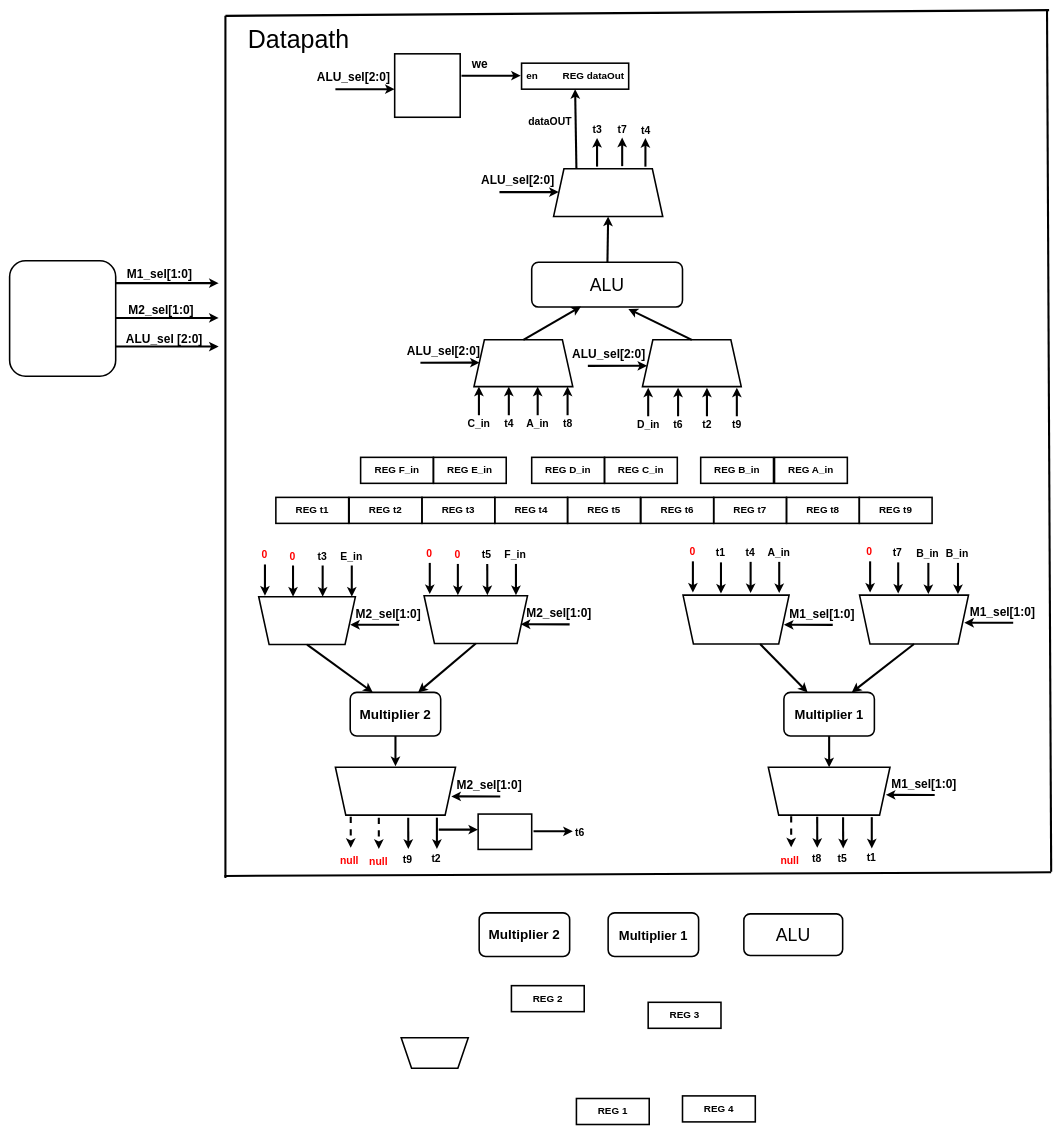
The diagram is 1062 pixels wide and 1134 high, and some of its shapes have lost their labels. Each missing label, with the centre of its shape:
"Control" goes at point 62,318.
"MUX 5" goes at point 434,1053.
"MUX ALU_opA" goes at point 523,363.
"MUX ALU_opB" goes at point 691,363.
"MUX ALU_out" goes at point 607,192.
"MUX M1_opA" goes at point 736,619.
"MUX M1_opB" goes at point 914,619.
"MUX M2_opA" goes at point 307,620.
"MUX M2_opB" goes at point 475,619.
"MUX Multiplier1_out" goes at point 828,791.
"MUX Multiplier2_out" goes at point 395,791.
"ShiftR 2" goes at point 504,831.
"Write Enable Comparator" goes at point 427,85.
